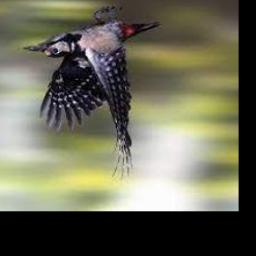Woodpecker: (23, 7, 161, 181)
